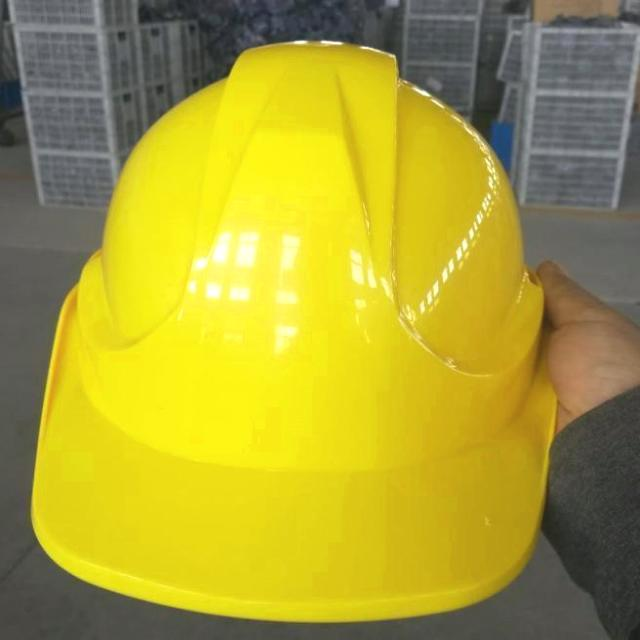head_helmet: (25, 36, 552, 626)
